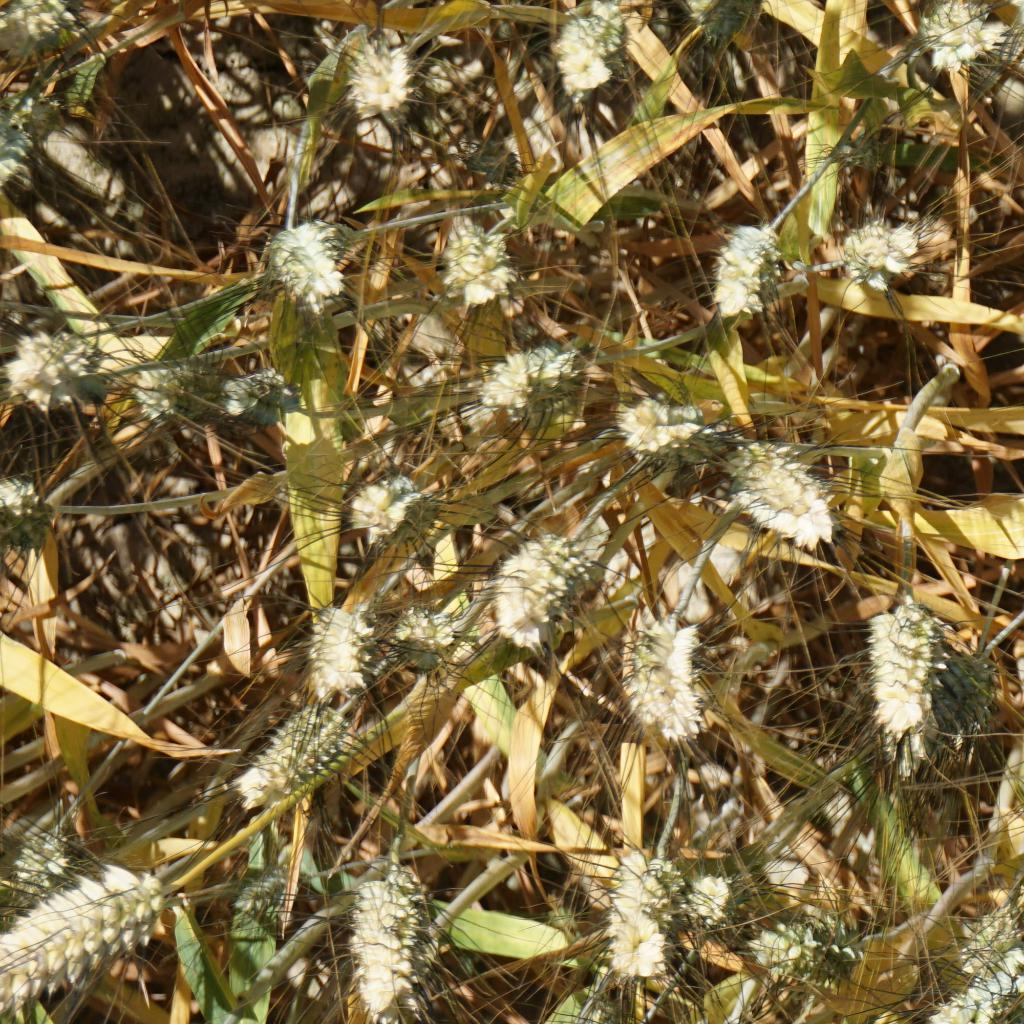0-0: (0, 879, 174, 1020), (845, 587, 956, 760), (596, 835, 698, 998), (614, 595, 721, 749), (492, 520, 591, 655), (350, 860, 433, 1009), (723, 444, 841, 546), (240, 698, 346, 800), (470, 335, 581, 425), (288, 591, 386, 687), (542, 0, 634, 102), (747, 905, 860, 988), (335, 19, 429, 118), (709, 225, 790, 331), (918, 0, 1023, 80), (257, 223, 348, 309), (925, 646, 1001, 747), (7, 337, 99, 414), (438, 215, 521, 297), (918, 960, 1024, 1024), (0, 87, 62, 190), (840, 219, 924, 281), (612, 395, 703, 450), (1, 823, 80, 884), (0, 0, 93, 51), (948, 907, 1024, 967), (342, 474, 419, 530), (0, 484, 65, 546), (399, 603, 464, 662), (131, 363, 198, 419), (223, 371, 292, 420), (233, 860, 298, 910), (690, 865, 738, 924), (460, 140, 519, 187), (688, 0, 757, 40), (825, 137, 873, 169), (1008, 0, 1024, 73)
